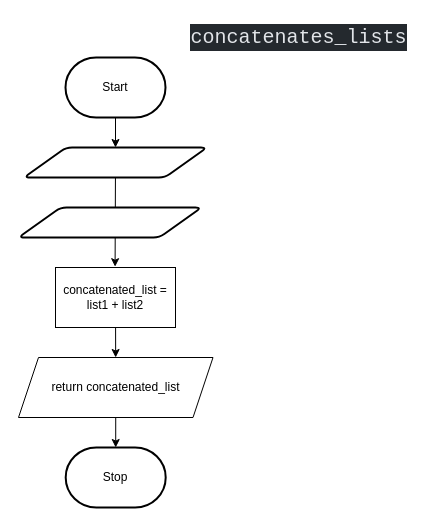
Some shapes in this 423 by 525 pixel diagram are drawn without their labels. Here are the shapes that lost their labels. From the top down, the centre of each, then its label:
At (115,162): "get list1".
At (109,222): "get list2".
